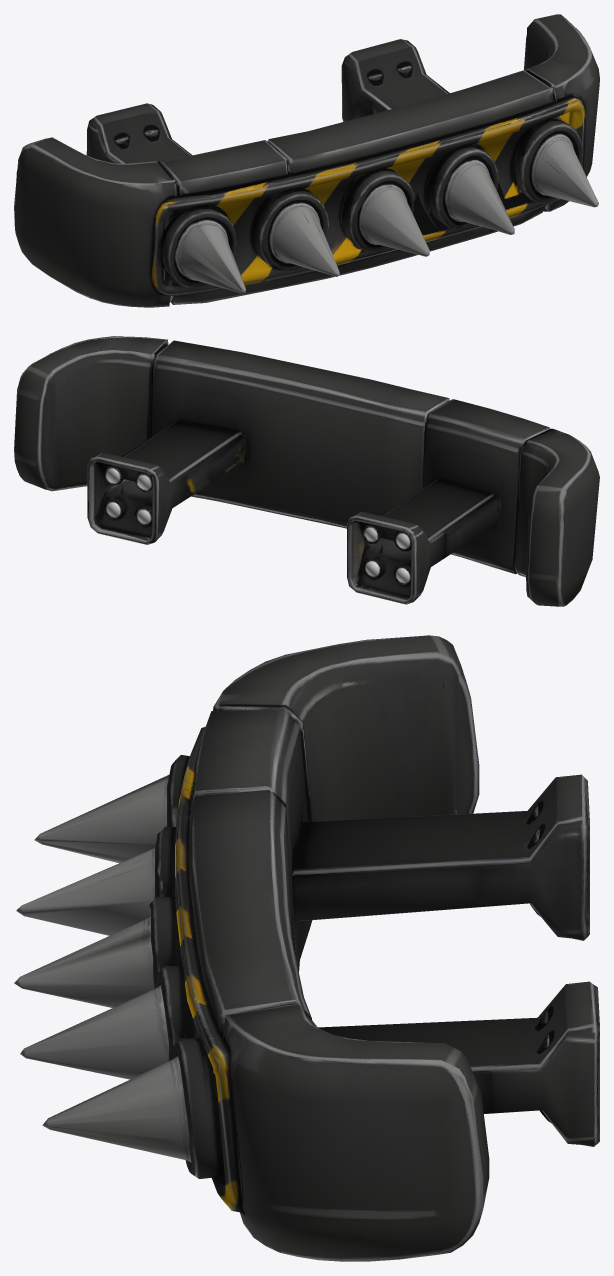
Rendered from bison-spike_bumper.glb.
3 renders of one model, top to bottom at view 1: azimuth 30°, elevation 25°; view 2: azimuth 150°, elevation 25°; view 3: azimuth 270°, elevation 25°, orthographic. The views are drawn at different scales.
Parts seen in each view (by area): view 1: tripo_node_f8d292a8-376b-429d-8a7e-7feddc722311; view 2: tripo_node_f8d292a8-376b-429d-8a7e-7feddc722311; view 3: tripo_node_f8d292a8-376b-429d-8a7e-7feddc722311.
Part boxes in pixels (x1,y1,x2,y2): tripo_node_f8d292a8-376b-429d-8a7e-7feddc722311: (14, 14, 599, 307); tripo_node_f8d292a8-376b-429d-8a7e-7feddc722311: (14, 336, 599, 606); tripo_node_f8d292a8-376b-429d-8a7e-7feddc722311: (14, 635, 599, 1261).
Size of the model in its own units: 1.55 by 0.3792 by 0.8827.
Materials: 1 (1 with a texture image).
